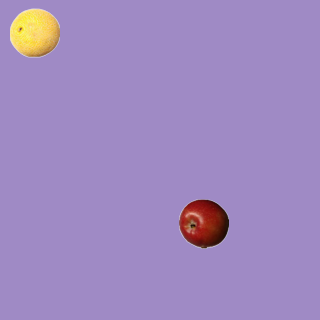Apple Braeburn: (178, 198, 228, 248)
Cantaloupe 1: (9, 7, 59, 57)
